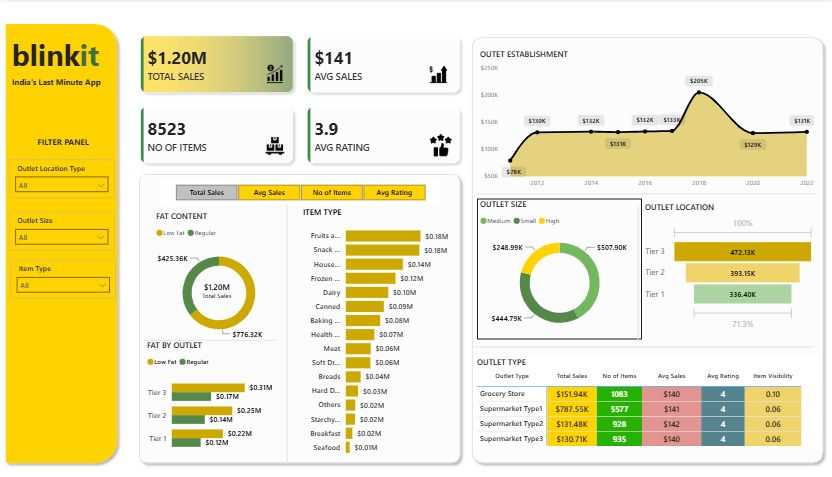

What the dashboard file says about the page in this screenshot:
{"tool":"powerbi","page":{"name":"Blinkit Dashboard","canvas":[1400,800],"ordinal":0},"visuals":[{"type":"shape","box":[0,26.9,204.6,750.3],"z":0},{"type":"textbox","box":[14.5,49.6,177.8,88.9],"z":1000},{"type":"textbox","box":[14.5,117.8,175.7,41.3],"z":2000},{"type":"cardVisual","fields":{"Data":["BlinkIT Grocery Data.Total Sales","BlinkIT Grocery Data.Avg Sales","BlinkIT Grocery Data.No of Items","BlinkIT Grocery Data.Avg Rating"]},"box":[204.6,26.9,591.1,270.8],"z":3000},{"type":"image","box":[442.3,99.2,31,39.3],"z":4000},{"type":"image","box":[715.2,99.2,31,41.3],"z":5000},{"type":"image","box":[442.3,219.1,31,39.3],"z":6000},{"type":"image","box":[715.2,219.1,39.3,37.2],"z":7000},{"type":"shape","box":[223.2,277,553.9,500.2],"z":8000},{"type":"donutChart","title":"FAT CONTENT","fields":{"Y":["BlinkIT Grocery Data.Total Sales"],"Category":["BlinkIT Grocery Data.Item Fat Content"]},"box":[254.2,347.2,219.1,229.4],"z":9000},{"type":"slicer","fields":{"Values":["Metrics.Metrics"]},"box":[266.6,297.6,465.1,39.3],"z":10000},{"type":"cardVisual","fields":{"Data":["BlinkIT Grocery Data.Total Sales"]},"box":[305.9,446.5,113.7,66.1],"z":11000},{"type":"clusteredBarChart","title":"FAT BY OUTLET","fields":{"Y":["BlinkIT Grocery Data.Total Sales"],"Category":["BlinkIT Grocery Data.Outlet Location Type"],"Series":["BlinkIT Grocery Data.Item Fat Content"]},"box":[239.8,562.2,219.1,200.5],"z":12000},{"type":"shape","box":[239.8,551.9,219.1,22.7],"z":13000},{"type":"shape","box":[473.3,336.9,12.4,432],"z":14000},{"type":"barChart","title":"ITEM TYPE","fields":{"Y":["BlinkIT Grocery Data.Total Sales"],"Category":["BlinkIT Grocery Data.Item Type"]},"box":[500.2,339,252.2,425.8],"z":15000},{"type":"shape","box":[777.2,49.6,603.5,727.6],"z":16000},{"type":"lineChart","title":"OUTET ESTABLISHMENT","fields":{"Category":["BlinkIT Grocery Data.Outlet Establishment Year"],"Y":["BlinkIT Grocery Data.Total Sales"]},"box":[795.8,78.5,566.3,239.8],"z":17000},{"type":"donutChart","title":"OUTLET SIZE","fields":{"Y":["BlinkIT Grocery Data.Total Sales"],"Category":["BlinkIT Grocery Data.Outlet Size"]},"box":[795.8,326.6,274.9,235.6],"z":18000},{"type":"shape","box":[1058.3,339,12.4,225.3],"z":19000},{"type":"funnel","title":"OUTLET LOCATION","fields":{"Category":["BlinkIT Grocery Data.Outlet Location Type"],"Y":["Sum(BlinkIT Grocery Data.Sales)"]},"box":[1070.7,332.8,291.4,219.1],"z":20000},{"type":"shape","box":[795.8,308,566.3,24.8],"z":21000},{"type":"shape","box":[789.6,562.2,566.3,24.8],"z":22000},{"type":"pivotTable","title":"OUTLET TYPE ","fields":{"Rows":["BlinkIT Grocery Data.Outlet Type"],"Values":["BlinkIT Grocery Data.Total Sales","BlinkIT Grocery Data.No of Items","BlinkIT Grocery Data.Avg Sales","BlinkIT Grocery Data.Avg Rating","Avg(BlinkIT Grocery Data.Item Visibility)"]},"box":[789.6,591.1,578.7,155],"z":23000},{"type":"slicer","fields":{"Values":["BlinkIT Grocery Data.Outlet Location Type"]},"box":[14.5,262.5,175.7,64.1],"z":23001},{"type":"slicer","fields":{"Values":["BlinkIT Grocery Data.Outlet Size"]},"box":[14.5,349.3,175.7,64.1],"z":23002},{"type":"slicer","fields":{"Values":["BlinkIT Grocery Data.Item Type"]},"box":[16.5,429.9,175.7,64.1],"z":23003},{"type":"textbox","box":[16.5,217,175.7,41.3],"z":23004}]}

Visuals, with their boxes in screenshot pixels (x1, y1, x2, y2), scaled from the page's 1400x800 canvas onto the 832x477 screenshot:
shape: [left=0, top=16, right=122, bottom=463]
textbox: [left=9, top=30, right=114, bottom=83]
textbox: [left=9, top=70, right=113, bottom=95]
cardVisual - BlinkIT Grocery Data.Total Sales x BlinkIT Grocery Data.Avg Sales: [left=122, top=16, right=473, bottom=178]
image: [left=263, top=59, right=281, bottom=83]
image: [left=425, top=59, right=443, bottom=84]
image: [left=263, top=131, right=281, bottom=154]
image: [left=425, top=131, right=448, bottom=153]
shape: [left=133, top=165, right=462, bottom=463]
"FAT CONTENT" donutChart: [left=151, top=207, right=281, bottom=344]
slicer - Metrics.Metrics: [left=158, top=177, right=435, bottom=201]
cardVisual - BlinkIT Grocery Data.Total Sales: [left=182, top=266, right=249, bottom=306]
"FAT BY OUTLET" clusteredBarChart: [left=143, top=335, right=273, bottom=455]
shape: [left=143, top=329, right=273, bottom=343]
shape: [left=281, top=201, right=289, bottom=458]
"ITEM TYPE" barChart: [left=297, top=202, right=447, bottom=456]
shape: [left=462, top=30, right=821, bottom=463]
"OUTET ESTABLISHMENT" lineChart: [left=473, top=47, right=809, bottom=190]
"OUTLET SIZE" donutChart: [left=473, top=195, right=636, bottom=335]
shape: [left=629, top=202, right=636, bottom=336]
"OUTLET LOCATION" funnel: [left=636, top=198, right=809, bottom=329]
shape: [left=473, top=184, right=809, bottom=198]
shape: [left=469, top=335, right=806, bottom=350]
"OUTLET TYPE " pivotTable: [left=469, top=352, right=813, bottom=445]
slicer - BlinkIT Grocery Data.Outlet Location Type: [left=9, top=157, right=113, bottom=195]
slicer - BlinkIT Grocery Data.Outlet Size: [left=9, top=208, right=113, bottom=246]
slicer - BlinkIT Grocery Data.Item Type: [left=10, top=256, right=114, bottom=295]
textbox: [left=10, top=129, right=114, bottom=154]
